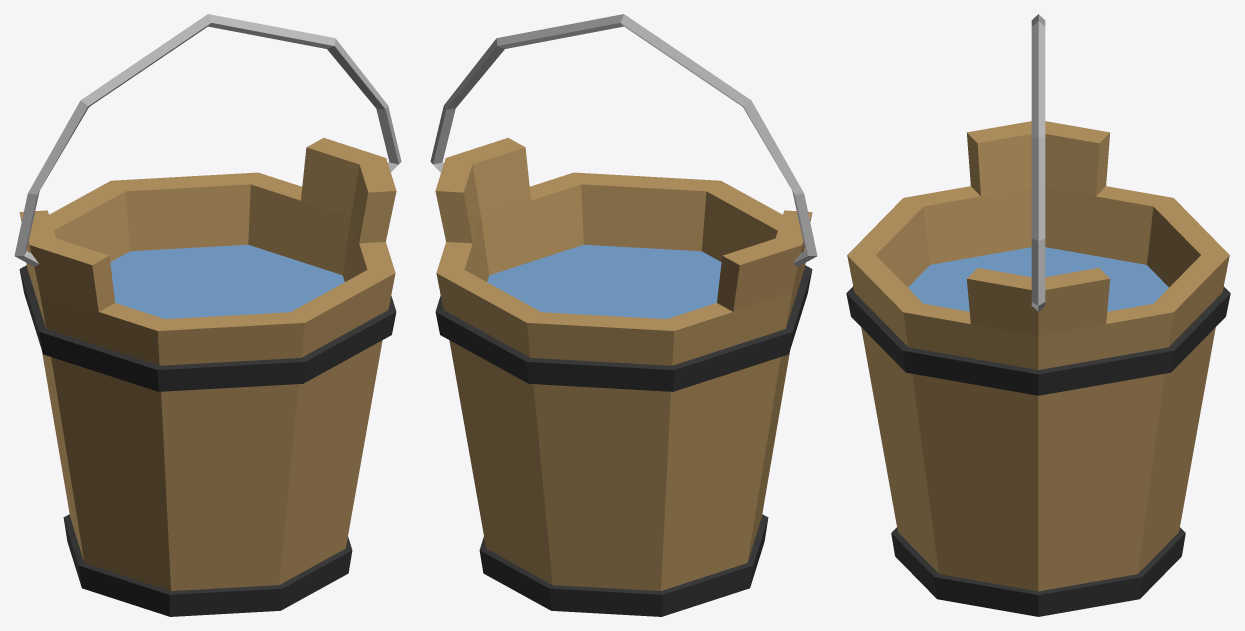
Rendered from Bucket2Water.fbx.
3 views of the same model, side by side, from view 1: azimuth 30°, elevation 25°; view 2: azimuth 150°, elevation 25°; view 3: azimuth 270°, elevation 25° (orthographic).
Parts seen in each view (by area): view 1: Cylinder, Cylinder.001; view 2: Cylinder, Cylinder.001; view 3: Cylinder, Cylinder.001.
Part boxes in pixels (<box>): Cylinder: <box>19,138,396,616</box>; Cylinder.001: <box>14,14,401,266</box>; Cylinder: <box>435,138,812,616</box>; Cylinder.001: <box>430,14,817,266</box>; Cylinder: <box>846,121,1230,616</box>; Cylinder.001: <box>1031,14,1045,311</box>.
Bounding box in the file's own units: 0.741 × 0.9943 × 0.647.
